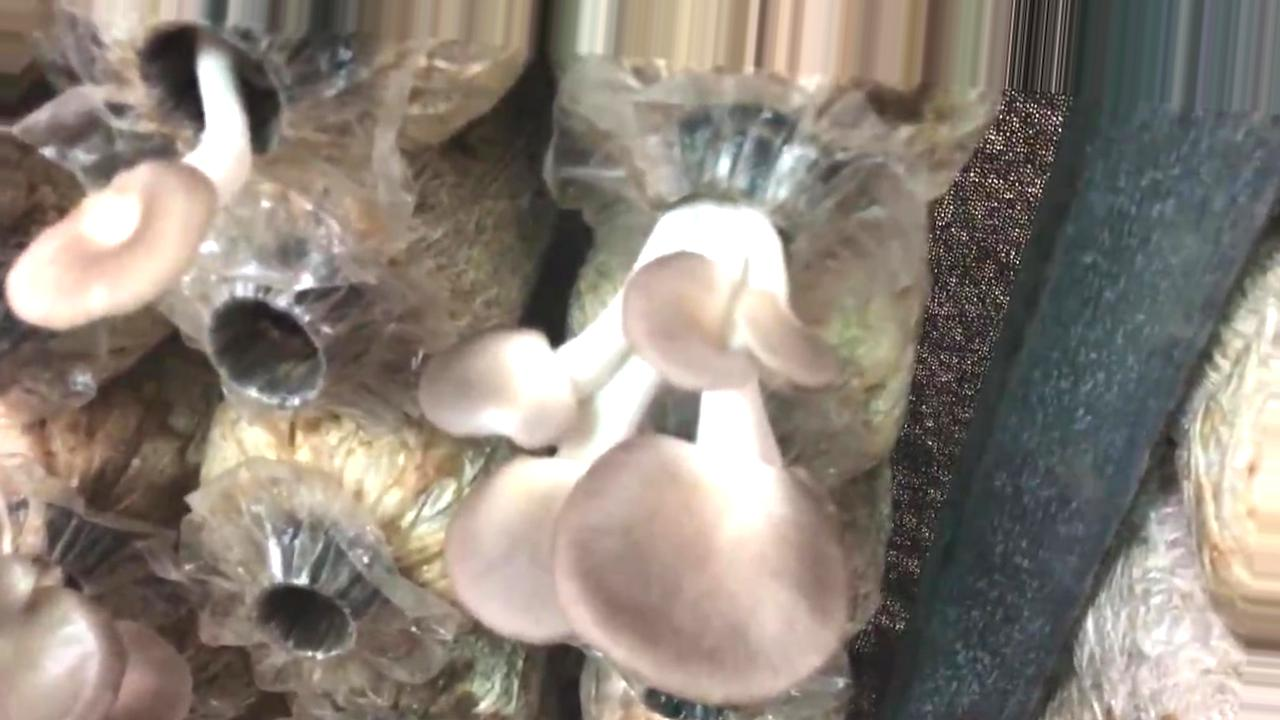nam: (420, 124, 848, 700), (10, 6, 317, 327)
